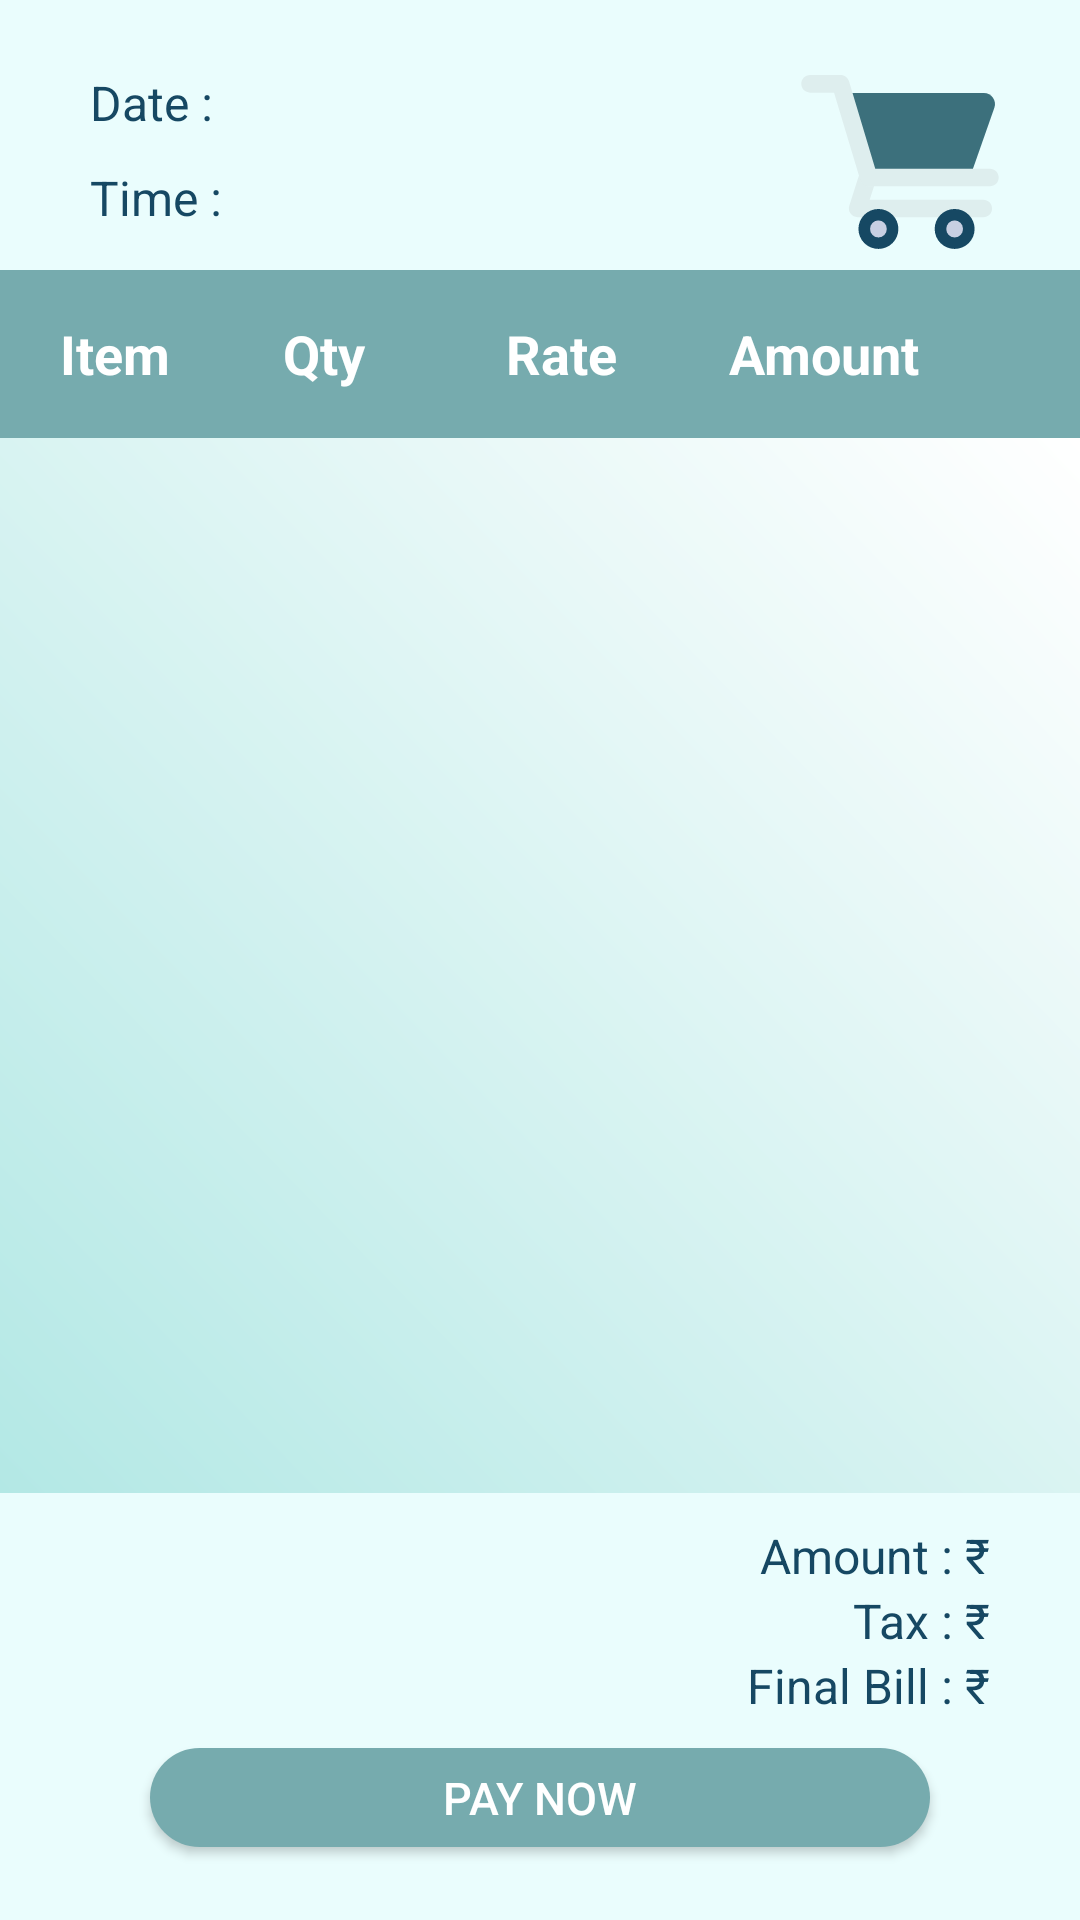

Icons on this 1080w x 1920h Android screen, each with the point to tap as (x,y):
shopping cart: (923,171)
